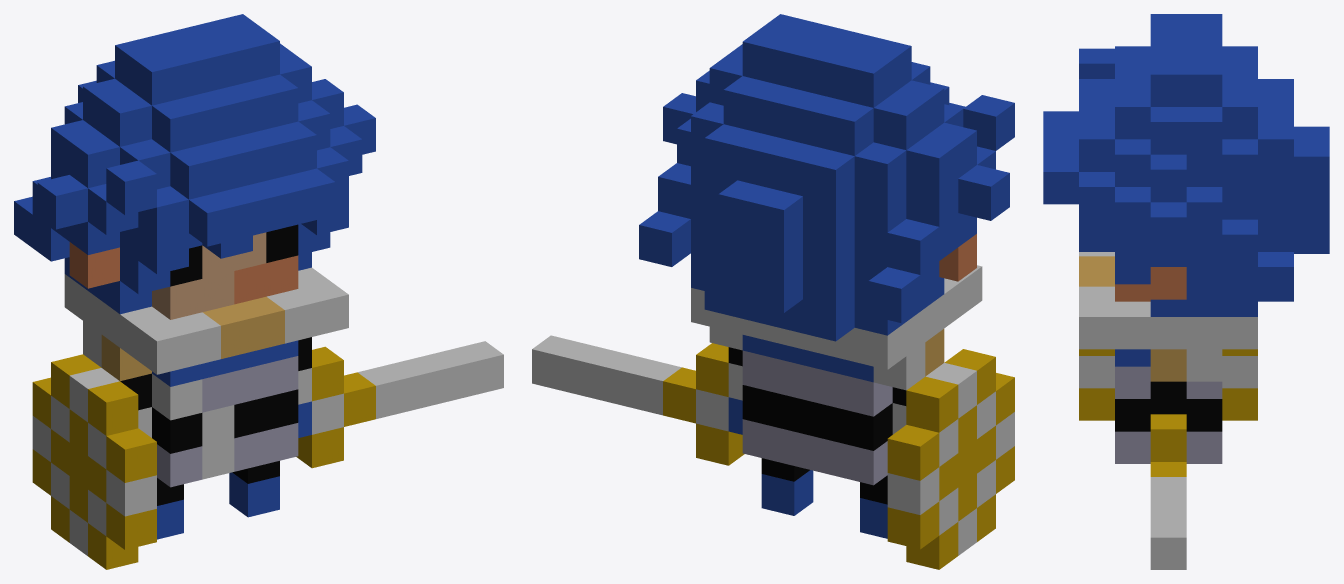
File: swordman.glb
3 views of the same model, side by side, from view 1: azimuth 30°, elevation 25°; view 2: azimuth 150°, elevation 25°; view 3: azimuth 270°, elevation 25° (orthographic). The views are drawn at different scales.
Visible parts, largest first — view 1: node0; view 2: node0; view 3: node0.
Part boxes in pixels (x1=…): node0: x1=14, y1=14, x2=503, y2=569; node0: x1=532, y1=14, x2=1014, y2=569; node0: x1=1043, y1=14, x2=1329, y2=569.
Bounding box in the file's own units: 1.4 × 1.4 × 0.8.
1 material, 1 textured.
